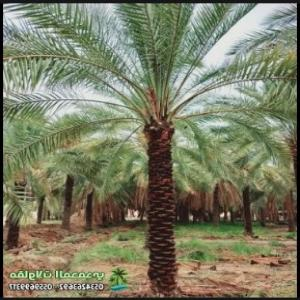palm tree: (3, 2, 295, 296)
